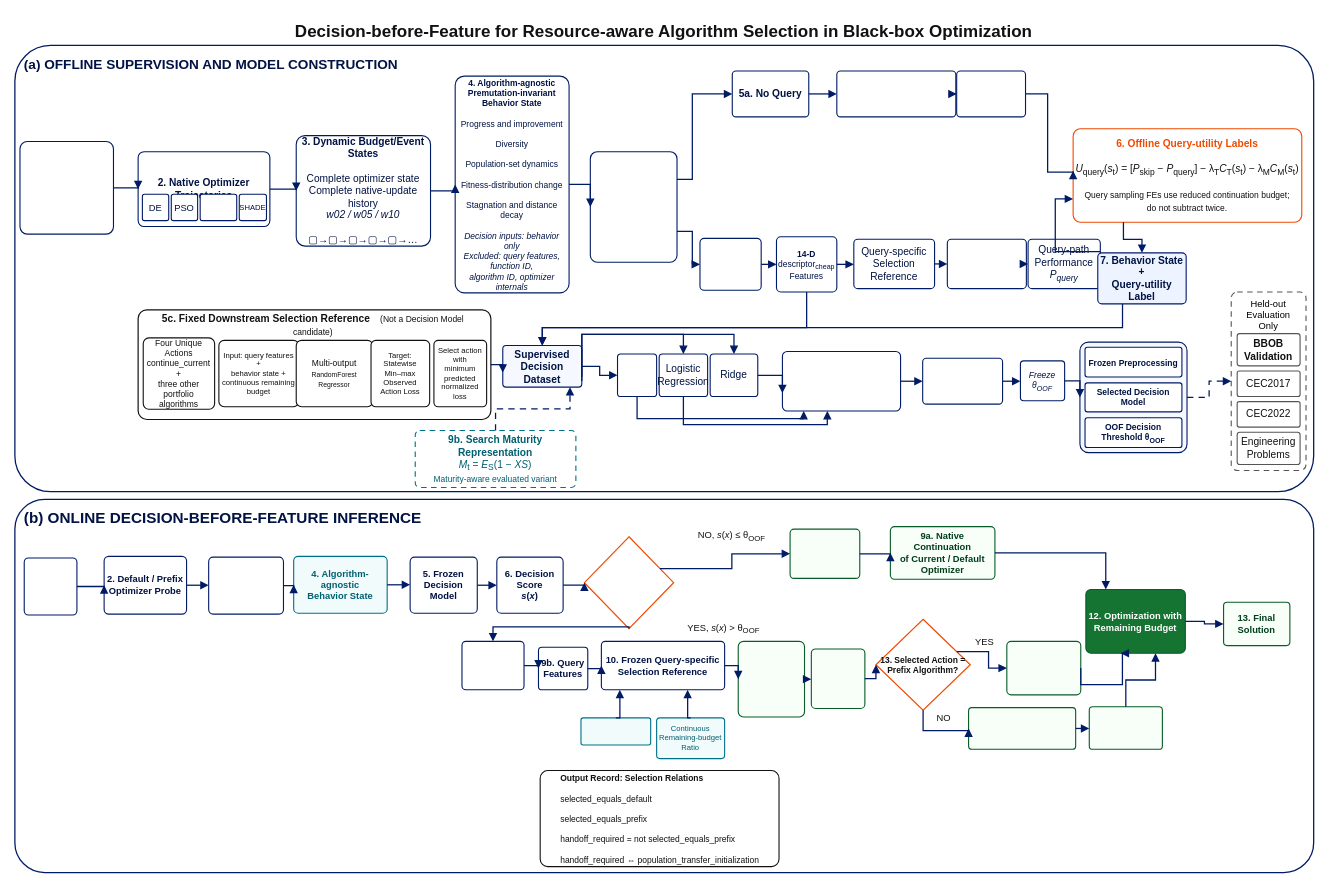
Image size: 1329x887. Some labels were removed from this diagram. The box of each missing label's shape, as (x1, y1, x2, y2) in pixels:
1. BBOB Training Problems 10D / 20D / 40D Function-family split: (19, 141, 114, 234)
1. Unseen Black-box Problem: (23, 557, 77, 615)
11. Predicted Normalized Losses for Four Unique Actions: (737, 640, 805, 717)
12b. Select Minimum-loss Action: (810, 648, 865, 709)
14a. Native Optimizer-state Continuation: (1006, 640, 1081, 695)
14b. One Population-transfer Initialization: (968, 707, 1076, 749)
15. Run Selected Optimizer: (1088, 706, 1163, 749)
3. Complete Native-update History: (208, 556, 284, 614)
5. Shared Complete Checkpoint State Same complete state; same total FE budget: (589, 151, 677, 262)
5b. Run Fixed Landscape Descriptor Query: (699, 237, 761, 290)
7. s ( x ) > θ OOF ?: (583, 536, 674, 629)
8a. No Query: (789, 528, 860, 579)
8b. Run Fixed Landscape Descriptor Query: (461, 640, 524, 690)
Behavior State: (580, 717, 651, 745)
CMA-ES: (199, 193, 237, 221)
Full BBOB-train Family-OOF Scores: (922, 357, 1003, 404)
LDA: (617, 353, 657, 397)
Native Continuation of Default Solver: (836, 70, 956, 117)
Nested Function-family OOF Model Selection Decision utility: primary criterion: (781, 351, 901, 411)
No-query Performance P skip: (956, 70, 1026, 117)
Selected-action Continuation: (946, 238, 1027, 289)
